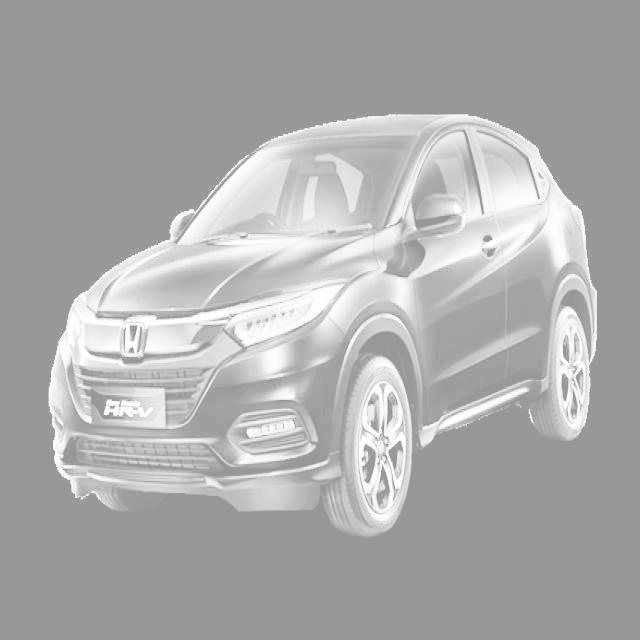Car: (30, 82, 622, 573)
